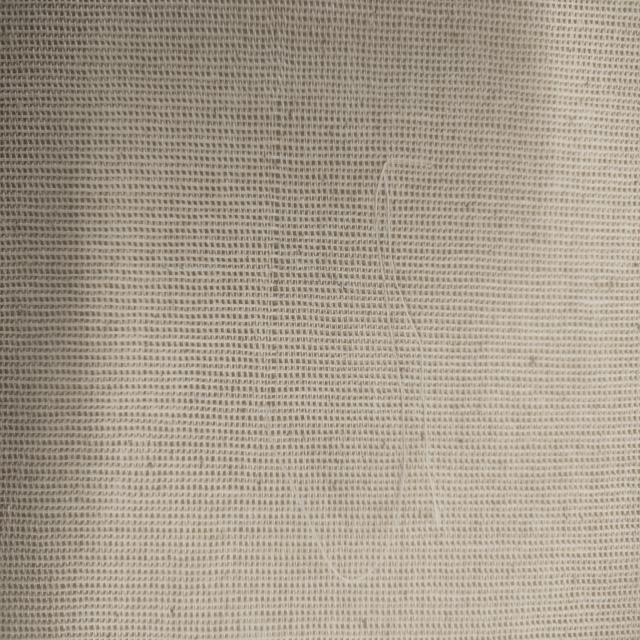stains: (250, 76, 319, 492)
